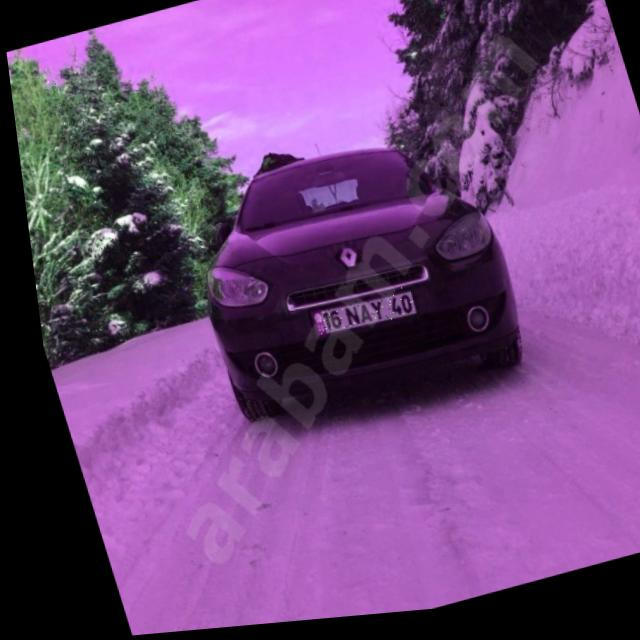license_plate: (298, 291, 410, 345)
